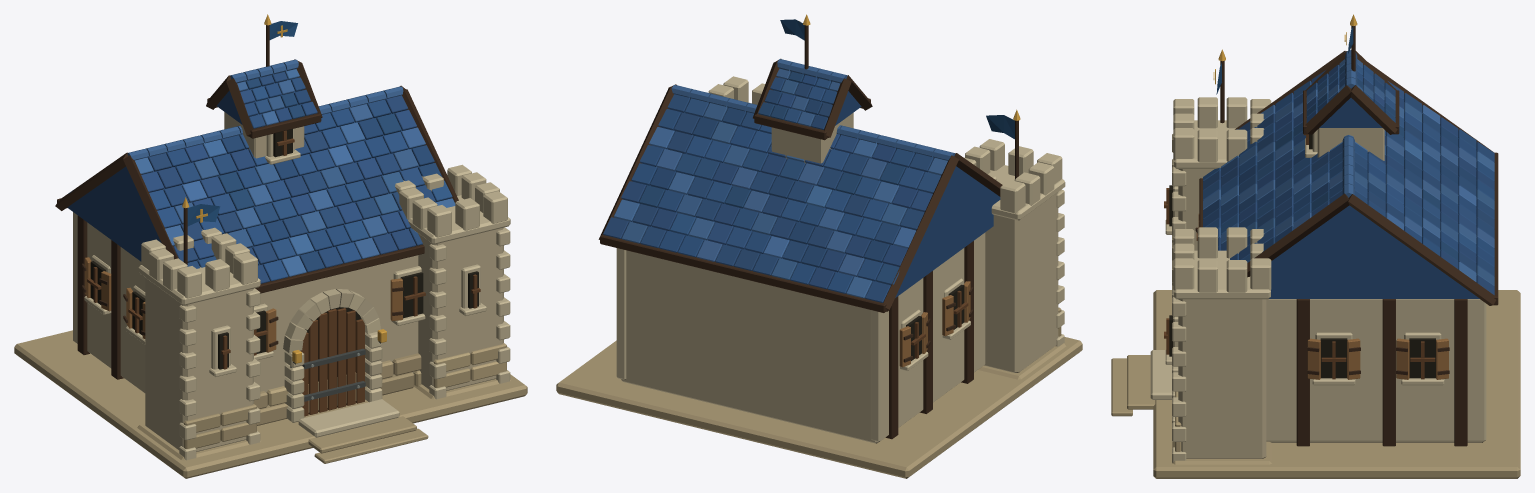
Rendered from headquarters.glb.
The picture shows the model from 3 angles, left to right: view 1: azimuth 30°, elevation 25°; view 2: azimuth 150°, elevation 25°; view 3: azimuth 270°, elevation 25°; orthographic projection. The views are drawn at different scales.
Visible parts, largest first — view 1: Stone, Roof, Timber, Metal, Fabric; view 2: Stone, Roof, Timber, Fabric; view 3: Stone, Roof, Timber.
Boxes of the visible parts, x1,y1,x2,y2 form: Stone: (14,112,527,478); Roof: (67,59,455,283); Timber: (55,25,480,416); Metal: (182,14,386,401); Fabric: (187,21,297,226); Stone: (556,76,1082,478); Roof: (603,59,1000,302); Timber: (598,25,1018,439); Fabric: (780,19,1014,139); Stone: (1111,97,1520,478); Roof: (1203,50,1494,298); Timber: (1164,25,1498,446).
Size of the model in its own units: 8.9 by 8.77 by 8.57.
